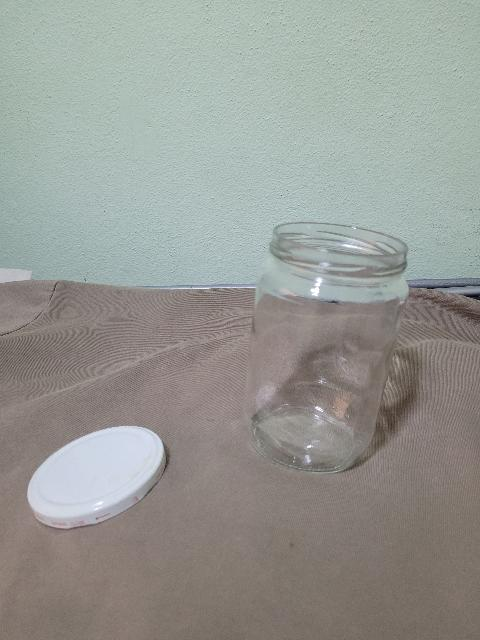Cam: (237, 221, 406, 472)
Metal: (24, 427, 173, 528)
